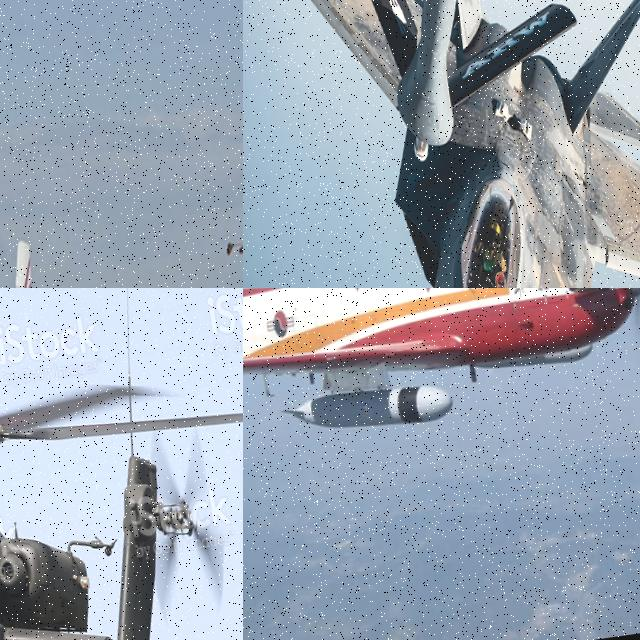A380: (0, 207, 243, 288)
Apache: (0, 288, 243, 640)
F22: (259, 0, 640, 288)
KT-1: (243, 288, 640, 469)
